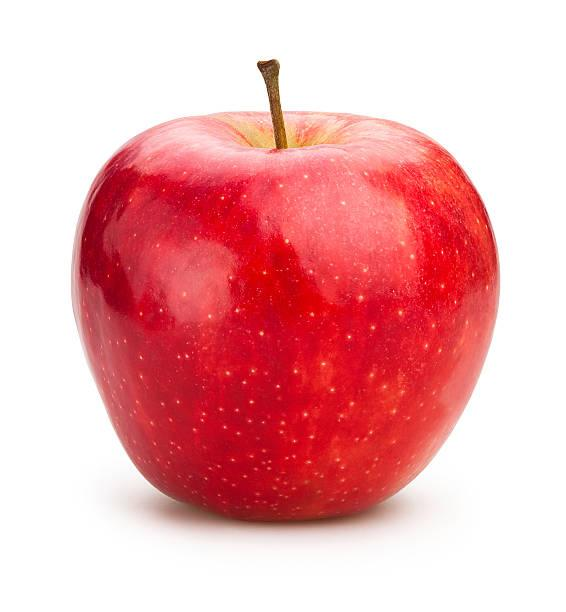apple: (52, 47, 522, 563)
